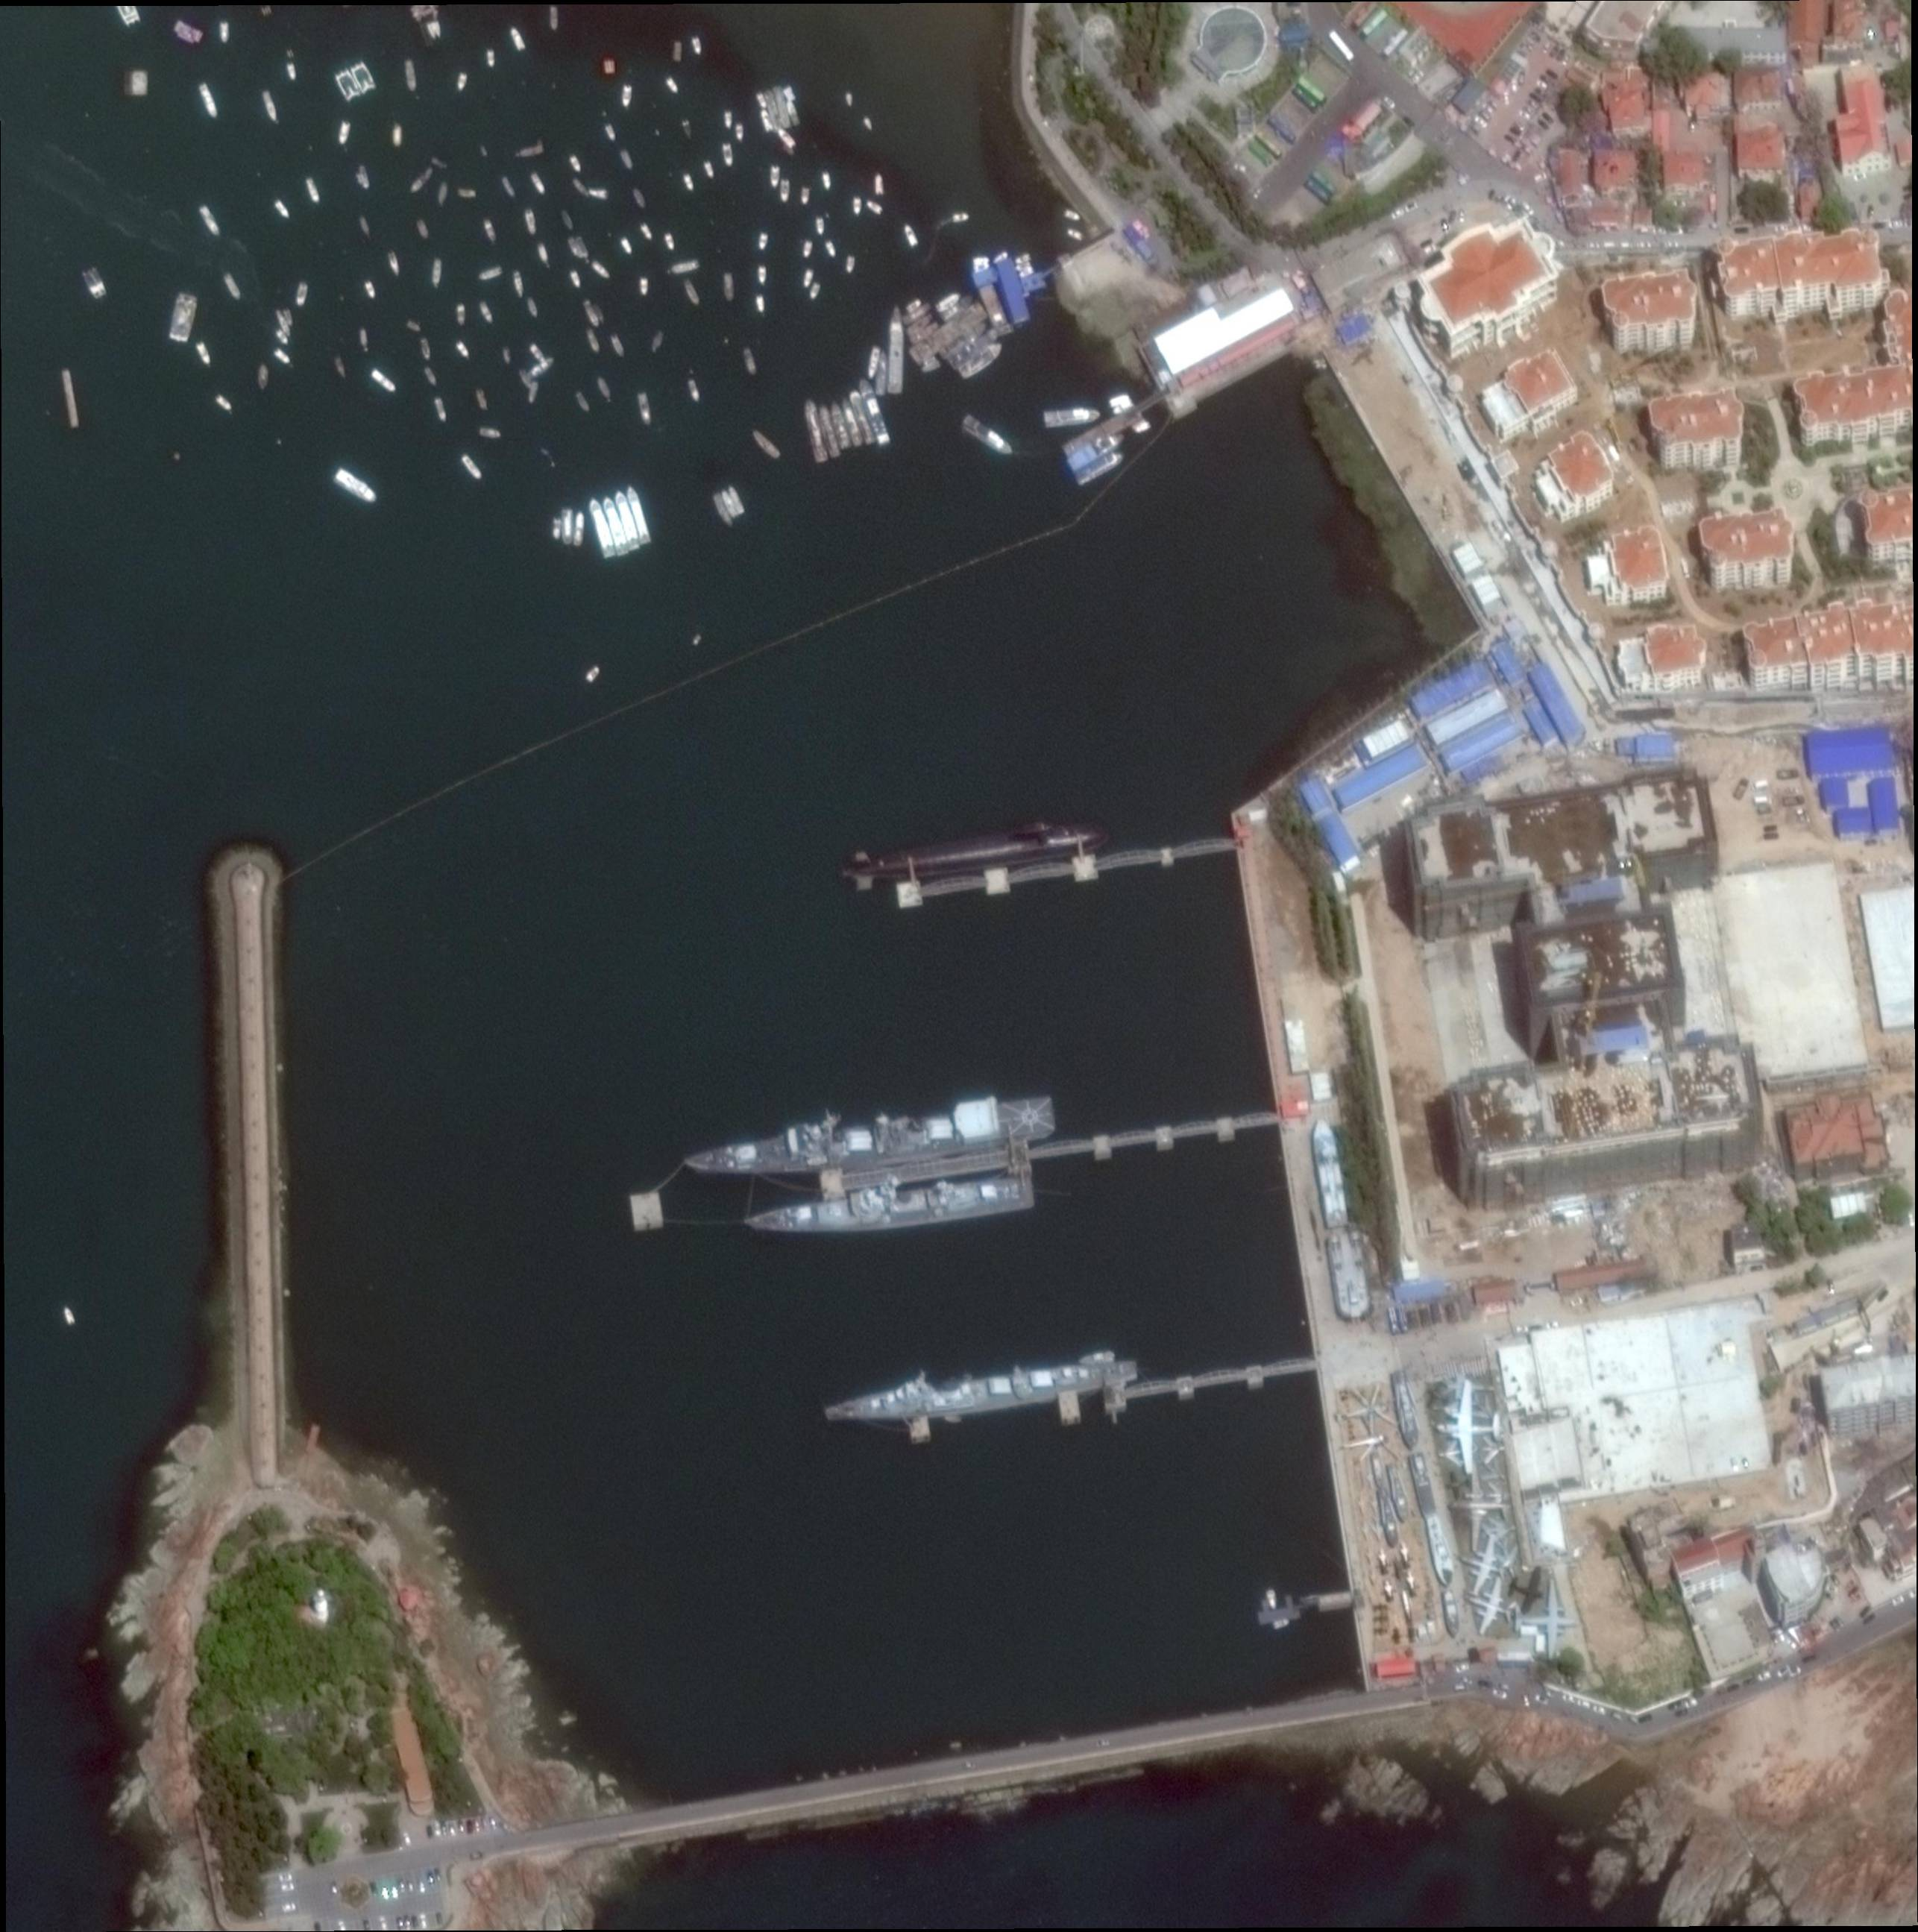harbor: (209, 838, 292, 1416), (818, 1103, 1280, 1198), (896, 831, 1237, 908), (1101, 1354, 1317, 1412), (1061, 390, 1166, 457)
large vehicle: (1268, 114, 1296, 144), (1330, 30, 1356, 61), (1298, 76, 1326, 104), (1361, 9, 1388, 37), (1384, 28, 1409, 58), (1256, 132, 1282, 158), (1293, 84, 1319, 109), (1354, 0, 1379, 26), (1312, 170, 1337, 193), (1307, 179, 1331, 202), (1251, 142, 1273, 165)
plane: (1438, 1379, 1503, 1472), (1514, 1579, 1577, 1663), (1451, 1465, 1509, 1554), (1460, 1570, 1523, 1642), (1453, 1530, 1516, 1600), (1503, 1556, 1553, 1621)
ship: (683, 1096, 1056, 1191), (824, 1351, 1140, 1433), (841, 815, 1112, 894), (741, 1171, 1035, 1240), (1310, 1121, 1351, 1229), (1328, 1233, 1372, 1324), (959, 411, 1017, 460), (1066, 430, 1128, 472), (1424, 1512, 1458, 1588), (947, 327, 1001, 372), (1389, 1370, 1421, 1447), (857, 378, 890, 446), (957, 339, 1006, 381), (1073, 448, 1126, 487), (940, 321, 989, 362), (587, 495, 616, 559), (803, 397, 831, 464), (601, 495, 631, 555), (613, 490, 643, 550), (847, 388, 876, 448), (1409, 1453, 1437, 1516), (625, 485, 653, 544), (335, 469, 379, 506), (887, 306, 905, 393), (169, 292, 198, 342), (817, 404, 841, 458), (840, 399, 866, 448), (829, 399, 854, 450), (348, 60, 378, 97), (940, 292, 977, 321), (750, 430, 782, 460), (1043, 411, 1101, 427), (1442, 1591, 1461, 1637), (910, 318, 940, 346), (409, 165, 436, 197), (335, 68, 360, 102), (198, 81, 220, 119), (83, 267, 107, 299), (711, 492, 732, 527), (773, 86, 790, 128), (527, 355, 557, 379), (198, 205, 223, 235), (903, 302, 933, 327), (460, 453, 485, 481), (371, 369, 399, 393), (934, 290, 964, 313), (764, 90, 782, 128), (906, 313, 934, 335), (875, 351, 889, 395), (262, 90, 281, 121), (223, 272, 244, 300), (727, 485, 746, 515), (638, 392, 653, 427), (683, 278, 703, 306), (720, 490, 739, 518), (866, 346, 882, 379), (583, 299, 601, 328), (562, 509, 574, 546), (434, 395, 450, 423), (276, 307, 292, 335), (741, 346, 757, 374), (509, 26, 527, 51), (481, 218, 499, 242), (478, 300, 495, 325), (573, 511, 585, 546), (671, 260, 701, 274), (587, 327, 602, 353), (478, 265, 504, 281), (785, 100, 801, 126), (592, 260, 613, 279), (776, 128, 797, 148), (530, 172, 548, 195), (430, 258, 444, 286), (611, 334, 627, 358), (687, 378, 703, 402), (520, 144, 544, 160), (406, 60, 418, 91), (197, 341, 213, 365), (306, 177, 321, 202), (903, 223, 919, 248), (574, 392, 592, 413), (455, 339, 472, 360), (529, 341, 546, 362), (388, 249, 402, 276), (501, 174, 516, 197), (597, 376, 613, 399), (620, 149, 636, 172), (525, 295, 539, 320), (513, 269, 525, 297), (478, 427, 502, 441), (337, 121, 351, 146), (295, 281, 309, 306), (632, 188, 648, 209), (525, 209, 537, 235), (576, 235, 590, 258), (358, 214, 372, 237), (416, 218, 430, 241), (761, 109, 775, 132), (286, 51, 297, 81), (724, 272, 734, 302), (571, 177, 588, 195), (274, 348, 292, 365), (276, 200, 292, 220), (1063, 207, 1082, 223), (866, 198, 885, 214), (358, 327, 371, 351), (722, 142, 734, 167), (569, 237, 583, 258), (560, 209, 574, 230), (364, 279, 378, 300), (652, 330, 666, 351), (592, 302, 606, 323), (360, 163, 371, 190), (216, 395, 234, 411), (276, 328, 292, 346), (906, 299, 924, 314), (569, 153, 583, 172), (604, 123, 618, 142), (641, 221, 655, 241), (620, 237, 634, 256), (425, 365, 439, 385), (826, 239, 840, 258), (537, 242, 550, 263), (476, 388, 488, 409), (455, 302, 465, 327), (437, 183, 450, 204), (258, 365, 269, 390), (1266, 1590, 1279, 1611), (585, 666, 601, 681), (666, 77, 681, 93), (1066, 227, 1084, 241), (922, 360, 940, 374), (622, 86, 632, 109), (529, 381, 539, 404), (422, 337, 432, 360), (683, 172, 696, 191), (692, 37, 704, 56), (664, 232, 676, 251), (455, 74, 467, 93), (335, 357, 348, 376), (820, 170, 833, 190), (681, 118, 694, 137), (757, 232, 769, 251), (803, 269, 815, 288), (406, 320, 422, 334), (769, 167, 780, 188), (571, 270, 583, 288), (63, 1307, 76, 1324), (283, 307, 295, 325), (1013, 253, 1031, 265), (757, 91, 769, 109), (780, 179, 789, 204), (808, 283, 820, 300), (755, 295, 766, 314), (393, 125, 402, 148), (994, 251, 1008, 265), (520, 369, 532, 385), (1019, 267, 1035, 279), (673, 40, 681, 61), (803, 241, 813, 258), (952, 213, 970, 223), (875, 172, 883, 193), (552, 5, 559, 30), (817, 218, 826, 237), (854, 197, 862, 216), (1015, 262, 1031, 272), (704, 162, 715, 177), (845, 256, 855, 272), (221, 21, 228, 44), (504, 346, 513, 364), (801, 188, 810, 205), (736, 123, 745, 141), (553, 518, 560, 539), (864, 116, 875, 130), (641, 276, 648, 295), (488, 49, 495, 67), (725, 111, 732, 128), (759, 267, 766, 283), (847, 91, 854, 105)
